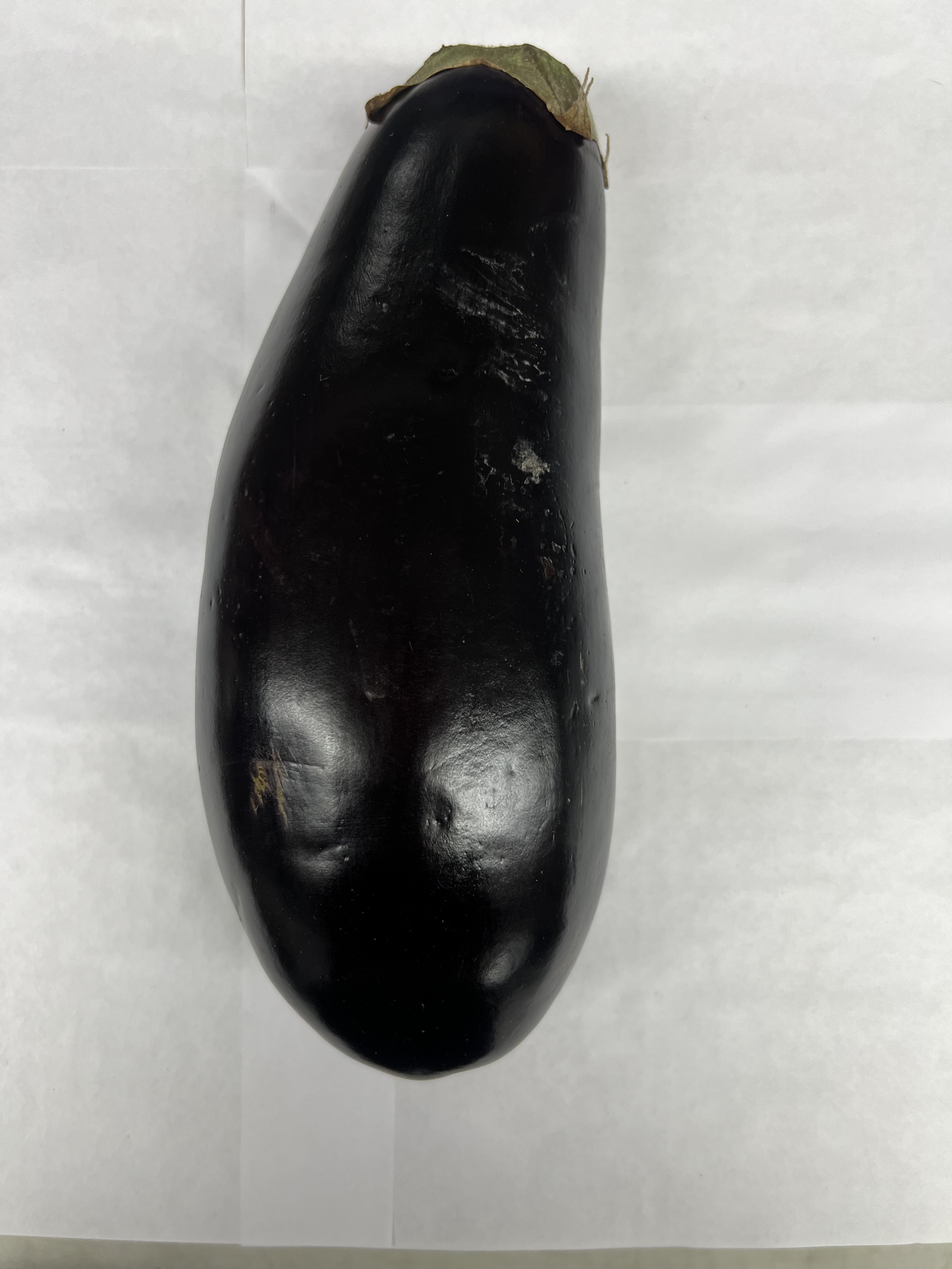produce: (184, 40, 627, 1081)
